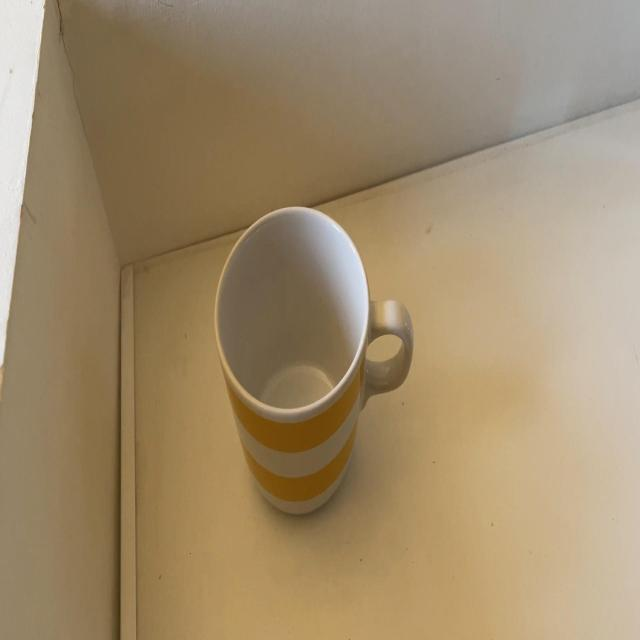cup: (213, 204, 414, 518)
